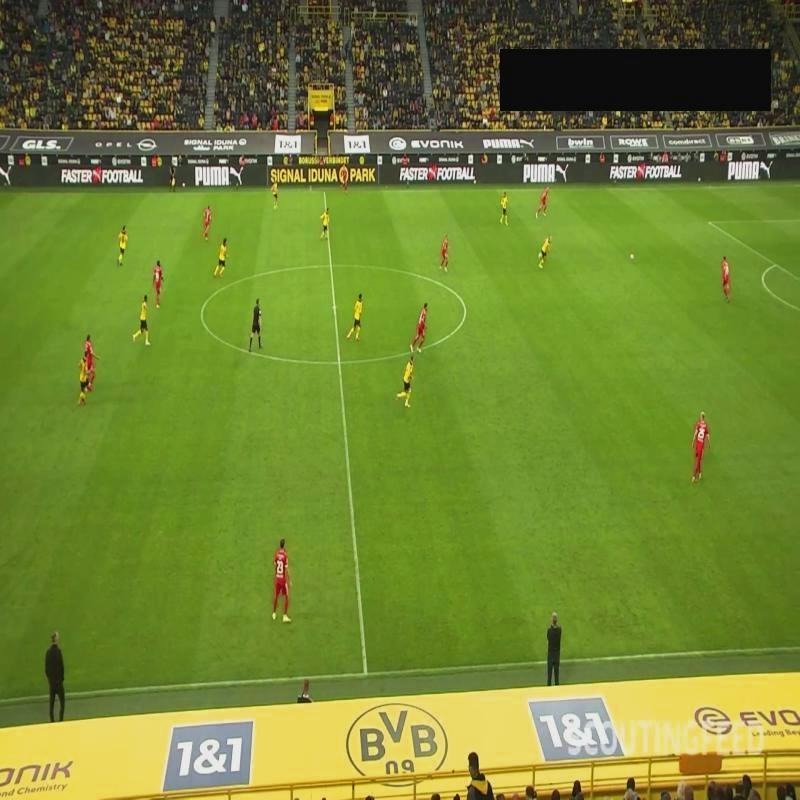10: (768, 258, 782, 272)
13: (318, 184, 332, 198)
14: (324, 258, 338, 272)
15: (332, 355, 346, 368)
16: (355, 662, 377, 686)
9: (702, 216, 716, 230)
c: (188, 304, 213, 326), (457, 298, 475, 320)
